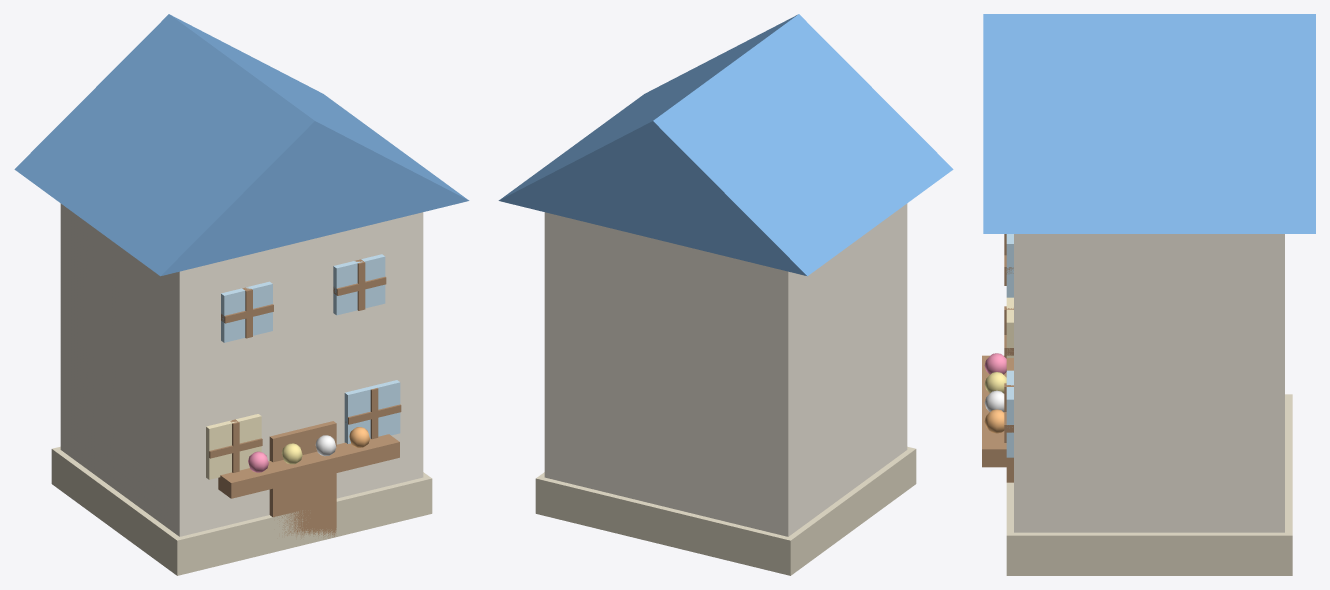
Rendered from rumahw6.glb.
3 views of the same model, side by side, from view 1: azimuth 30°, elevation 25°; view 2: azimuth 150°, elevation 25°; view 3: azimuth 270°, elevation 25° (orthographic). The views are drawn at different scales.
Visible parts, largest first — view 1: rumahw6; view 2: rumahw6; view 3: rumahw6.
Part boxes in pixels (box(x1,y1,x2,y2)): rumahw6: box(14, 14, 469, 575); rumahw6: box(498, 14, 953, 575); rumahw6: box(982, 14, 1315, 575).
Size of the model in its own units: 1.65 by 2.2 by 1.36.
